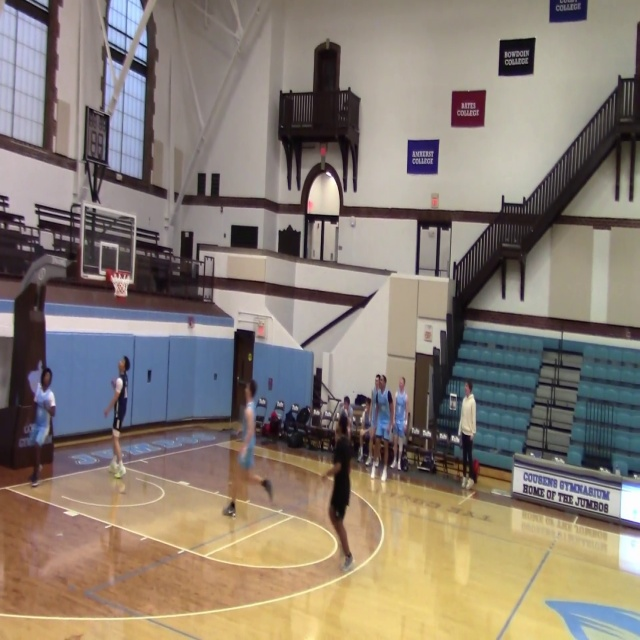Basketball: (111, 377, 122, 391), (114, 466, 126, 478)
